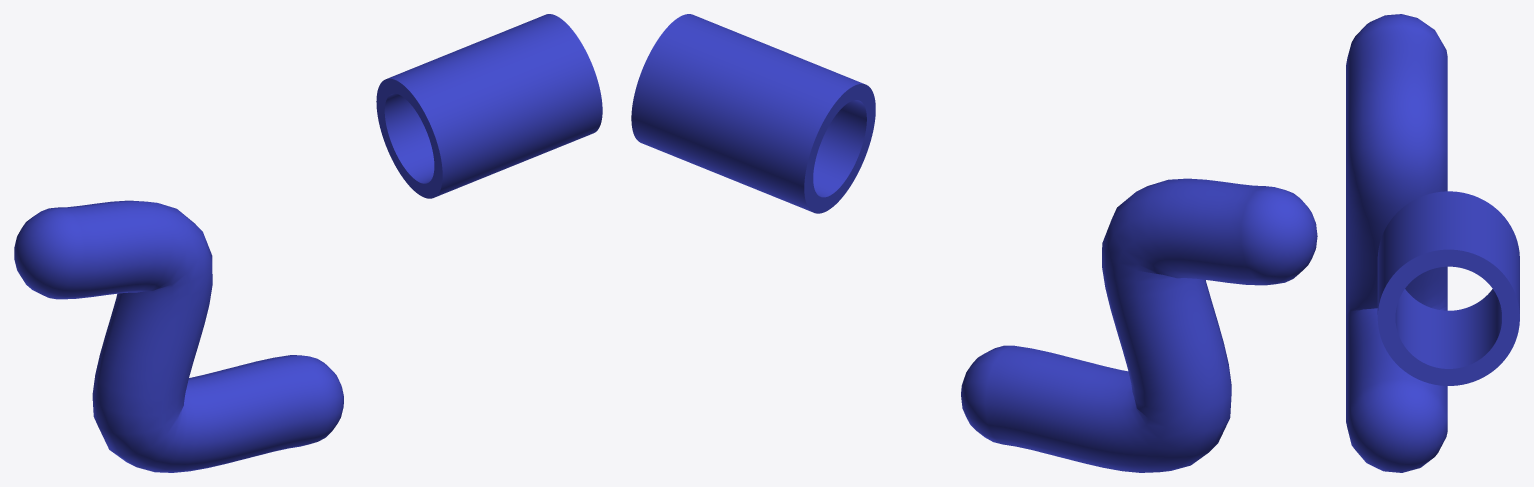
File: Unbenannt.fbx
The picture shows the model from 3 angles, left to right: view 1: azimuth 30°, elevation 25°; view 2: azimuth 150°, elevation 25°; view 3: azimuth 270°, elevation 25°; orthographic projection. The views are drawn at different scales.
Visible parts, largest first — view 1: root (×2); view 2: root (×2); view 3: root (×2).
Part boxes in pixels (<box>): root (×2): <box>14,14,602,472</box>; root (×2): <box>631,14,1317,472</box>; root (×2): <box>1346,14,1519,472</box>.
Bounding box in the file's own units: 0.4347 × 0.2407 × 0.1015.
